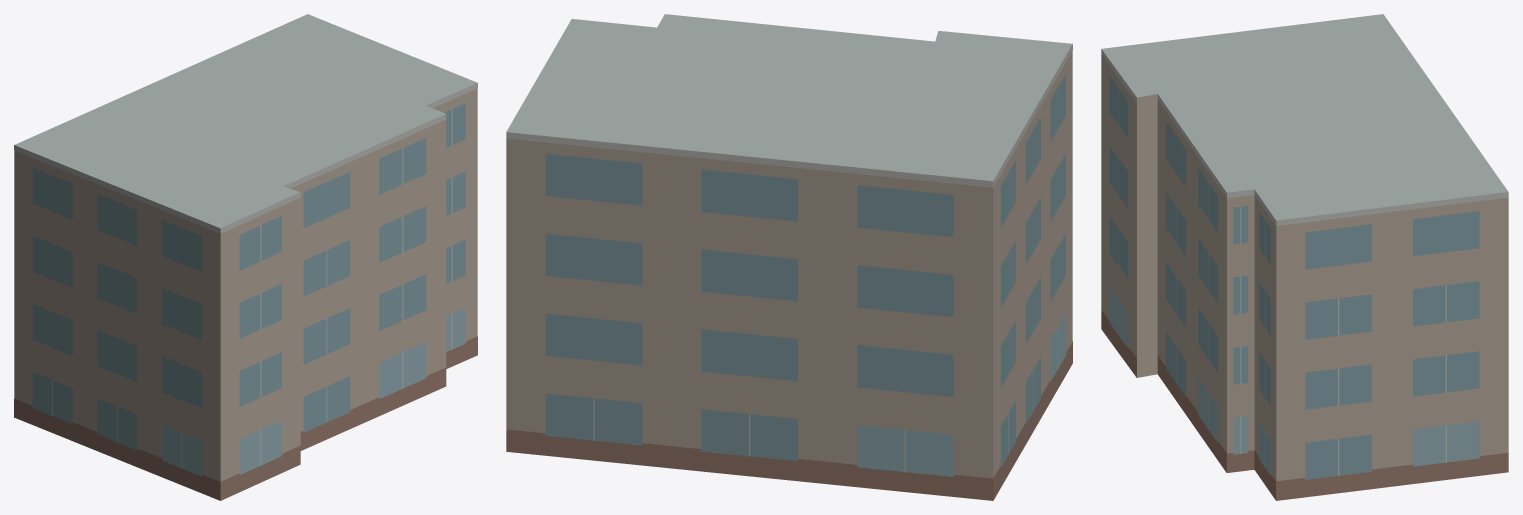
The model's file is survey-upis-32773705.glb.
3 renders of one model, left to right at view 1: azimuth 30°, elevation 25°; view 2: azimuth 150°, elevation 25°; view 3: azimuth 270°, elevation 25°, orthographic. The views are drawn at different scales.
Parts seen in each view (by area): view 1: survey-upis-32773705.tmp; view 2: survey-upis-32773705.tmp; view 3: survey-upis-32773705.tmp.
Boxes of the visible parts, x1,y1,x2,y2 form: survey-upis-32773705.tmp: (14,14,477,500); survey-upis-32773705.tmp: (506,14,1072,500); survey-upis-32773705.tmp: (1101,14,1508,500).
Size of the model in its own units: 19.29 by 12.2 by 16.07.
